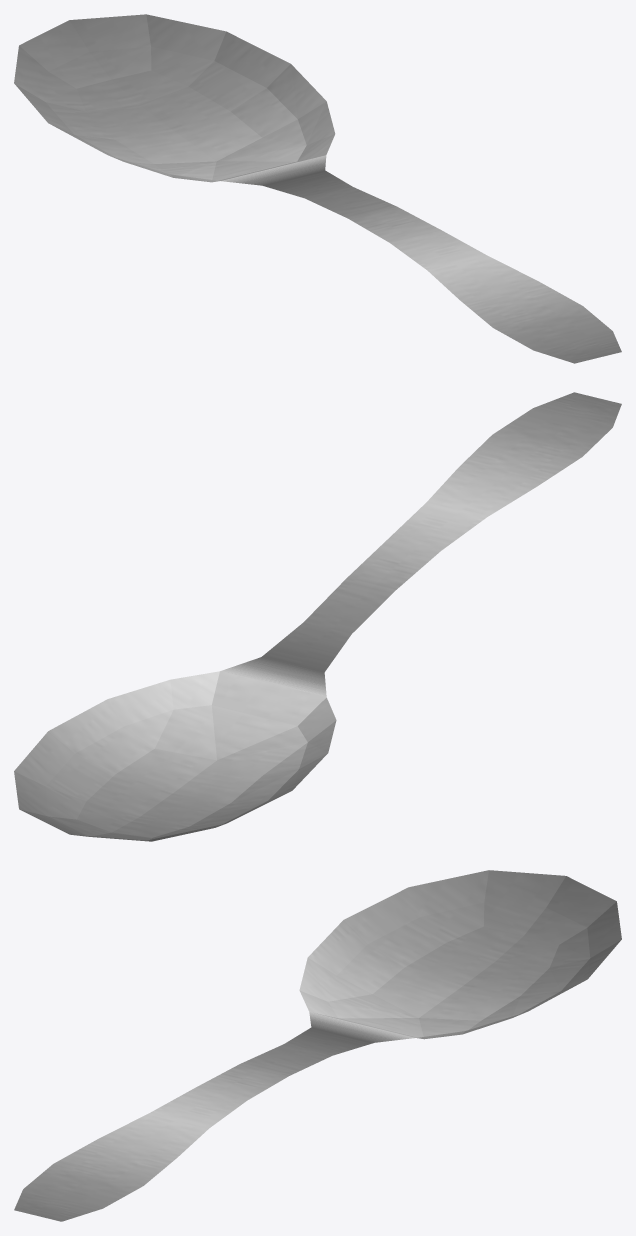
Rendered from Sendok.fbx.
3 views of the same model, one above another, from view 1: azimuth 30°, elevation 25°; view 2: azimuth 150°, elevation 25°; view 3: azimuth 330°, elevation 25° (orthographic).
Parts seen in each view (by area): view 1: Plane; view 2: Plane; view 3: Plane.
Boxes of the visible parts, left/top/right/bottom form: Plane: left=14, top=14, right=621, bottom=363; Plane: left=14, top=392, right=621, bottom=841; Plane: left=14, top=870, right=621, bottom=1221.
Bounding box in the file's own units: 2.02 × 0.6529 × 7.59.
